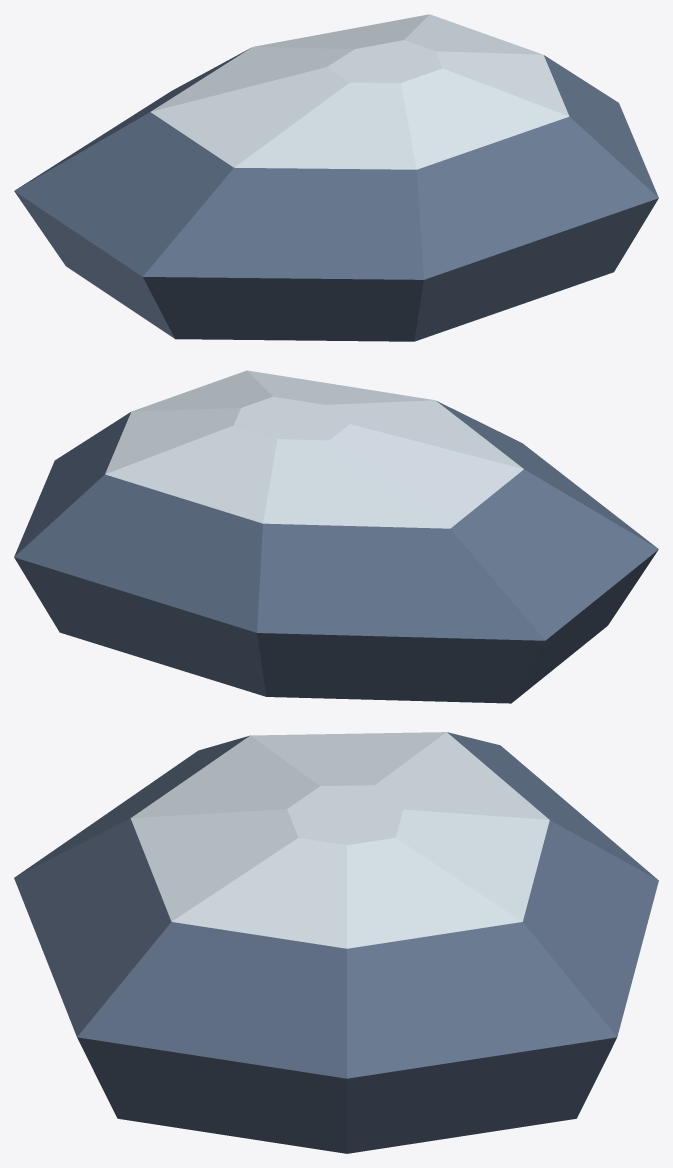
The model's file is frost-boulder.glb.
3 renders of one model, top to bottom at view 1: azimuth 30°, elevation 25°; view 2: azimuth 150°, elevation 25°; view 3: azimuth 270°, elevation 25°, orthographic. The views are drawn at different scales.
Visible parts, largest first — view 1: frost-boulder; view 2: frost-boulder; view 3: frost-boulder.
Boxes of the visible parts, x1,y1,x2,y2 form: frost-boulder: [14, 14, 658, 341]; frost-boulder: [14, 370, 658, 703]; frost-boulder: [14, 732, 658, 1153].
Bounding box in the file's own units: 4.22 × 1.3 × 3.45.
